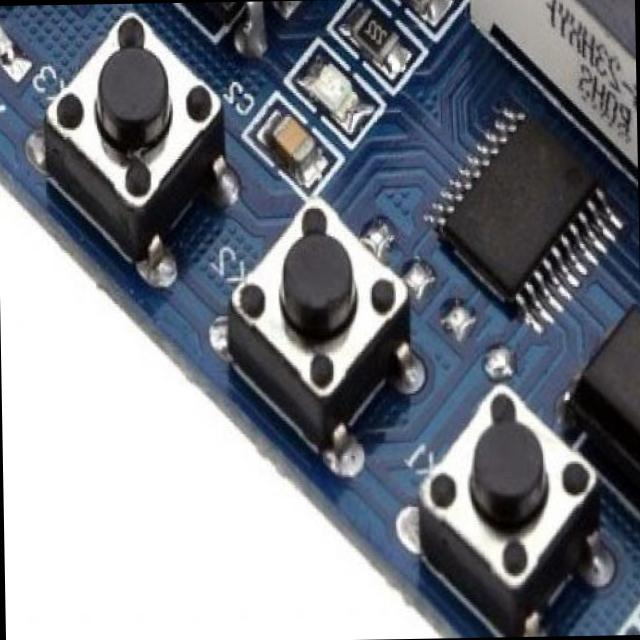IC: (436, 105, 600, 298)
LED: (306, 52, 355, 115)
capacitor: (260, 114, 320, 178)
resistor: (350, 0, 399, 66)
